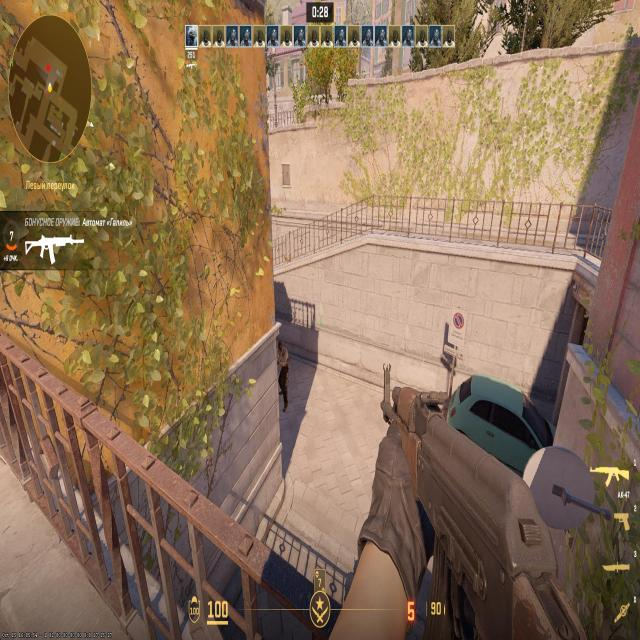T: (276, 340, 286, 397)
T_heat: (279, 346, 283, 356)
